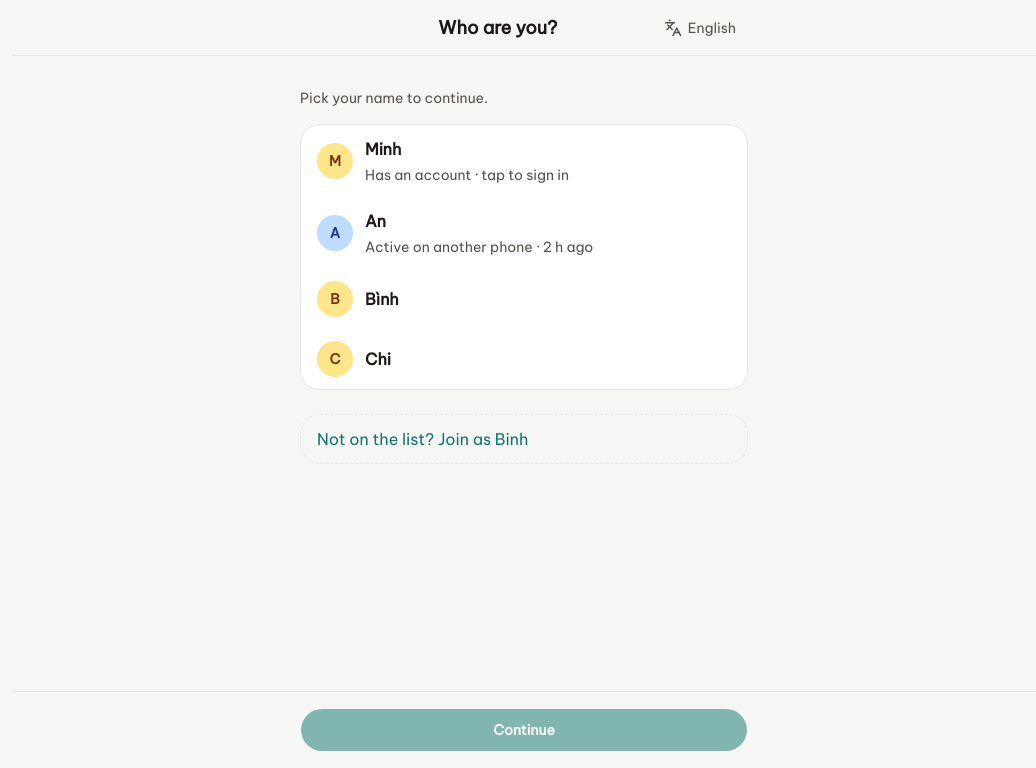
Scenario: after joining from the trip page › "Yes, I'm Bình" lands in the trip as Bình, not back on who-are-you
What coordinates should you click on to do the following:
click the button "Not on the list? Join as Binh"
I would click on:
 (524, 439)
Its box is [300,414,748,464].
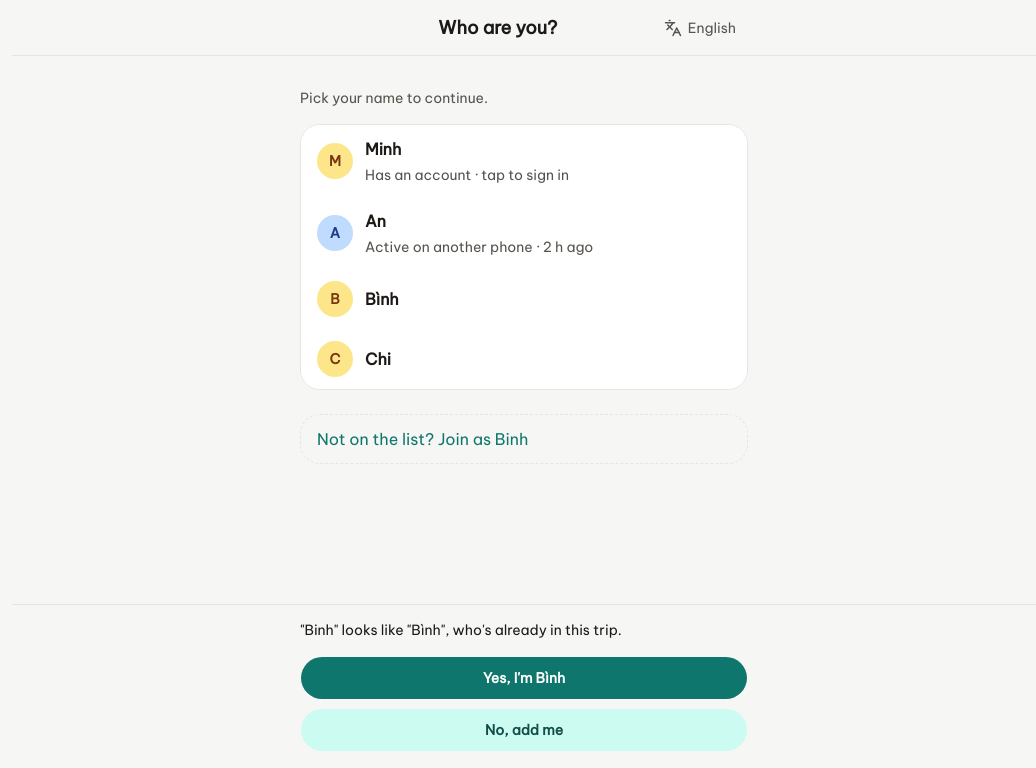
What coordinates should you click on to do the following:
click the button "Yes, I'm Bình"
I would click on:
 (524, 678)
Its box is [300,656,748,700].
(page scrolled)
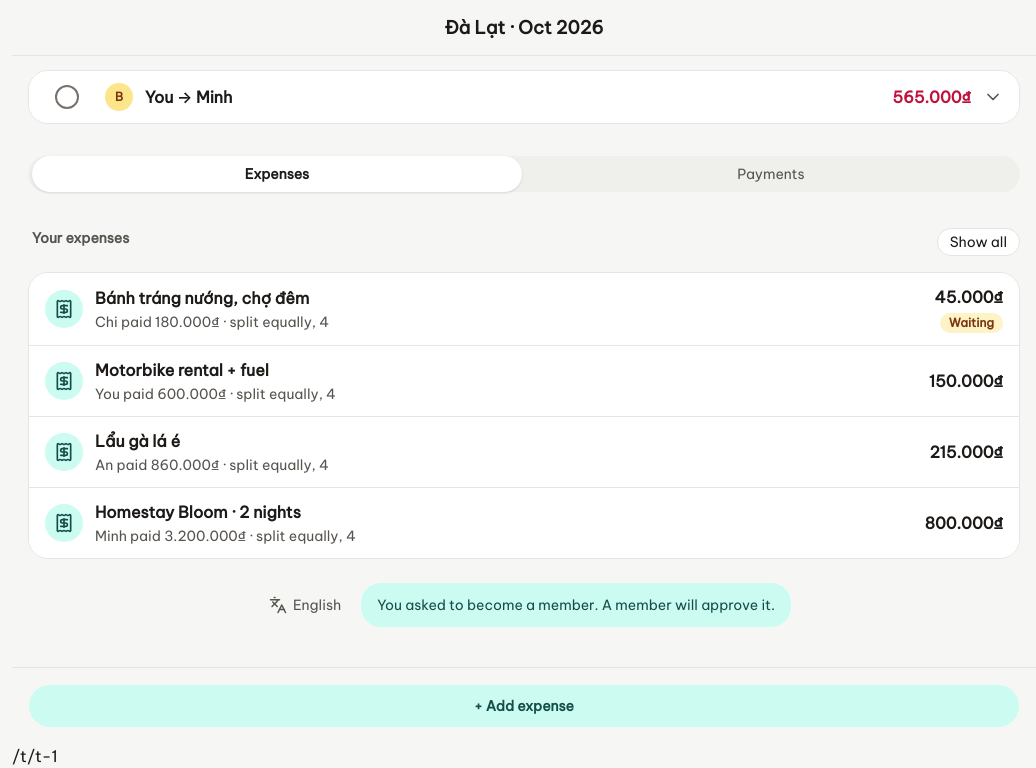
Expected: the text with test id "location" reads "/t/t-1", [12,746,58,766]
